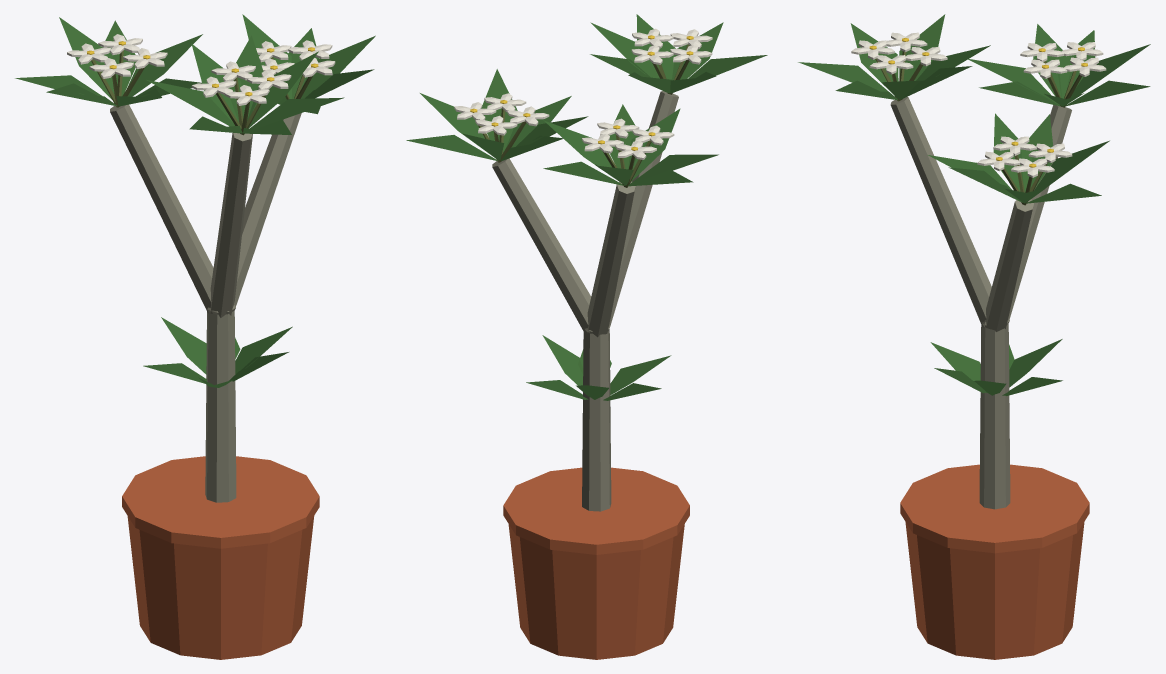
Rendered from frangipani.glb.
The picture shows the model from 3 angles, left to right: view 1: azimuth 30°, elevation 25°; view 2: azimuth 150°, elevation 25°; view 3: azimuth 270°, elevation 25°; orthographic projection. The views are drawn at different scales.
Parts seen in each view (by area): view 1: Stage_3, Stage_2; view 2: Stage_3, Stage_2; view 3: Stage_3, Stage_2.
Part boxes in pixels (left/top/right/bottom): Stage_3: left=15, top=14, right=375, bottom=659; Stage_2: left=143, top=317, right=292, bottom=387; Stage_3: left=406, top=14, right=767, bottom=659; Stage_2: left=526, top=335, right=671, bottom=400; Stage_3: left=798, top=14, right=1150, bottom=659; Stage_2: left=930, top=339, right=1062, bottom=395.
Size of the model in its own units: 0.7911 by 1.38 by 0.7749.
